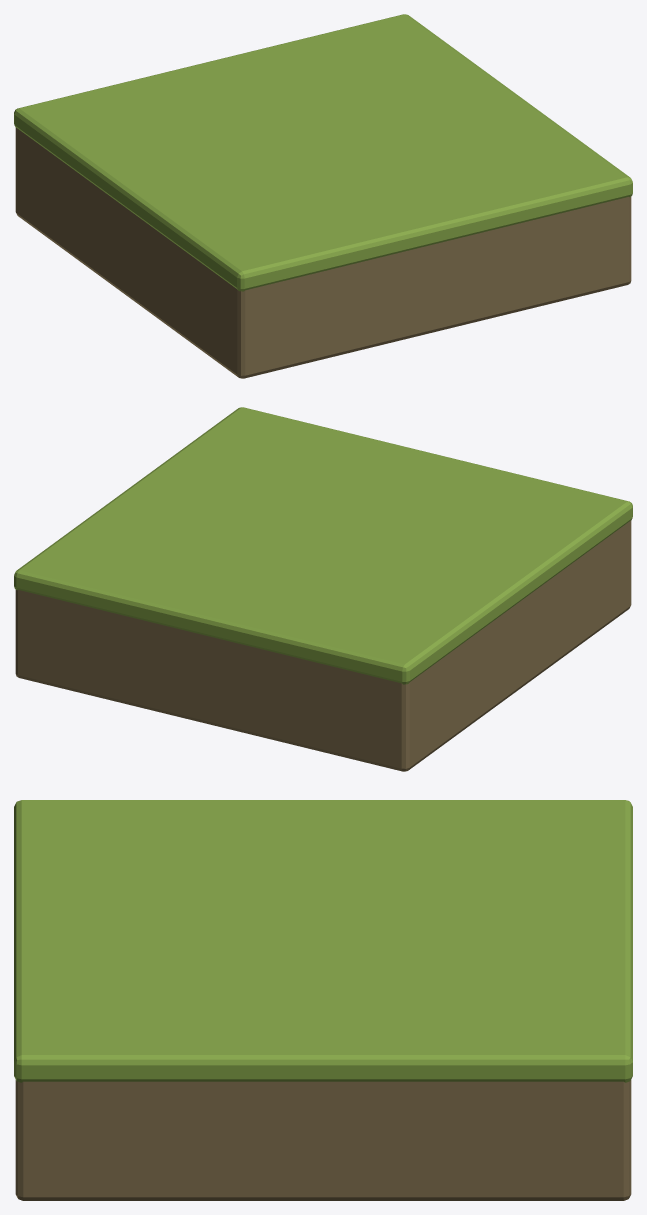
Rendered from SM_Platform_4m_01_A.fbx.
The picture shows the model from 3 angles, top to bottom: view 1: azimuth 30°, elevation 25°; view 2: azimuth 150°, elevation 25°; view 3: azimuth 270°, elevation 25°; orthographic projection. The views are drawn at different scales.
Visible parts, largest first — view 1: polySurface97; view 2: polySurface97; view 3: polySurface97.
Part boxes in pixels (x1=…): polySurface97: x1=14, y1=14, x2=632, y2=378; polySurface97: x1=14, y1=407, x2=632, y2=771; polySurface97: x1=14, y1=800, x2=632, y2=1200.
Bounding box in the file's own units: 402 × 105 × 402.
